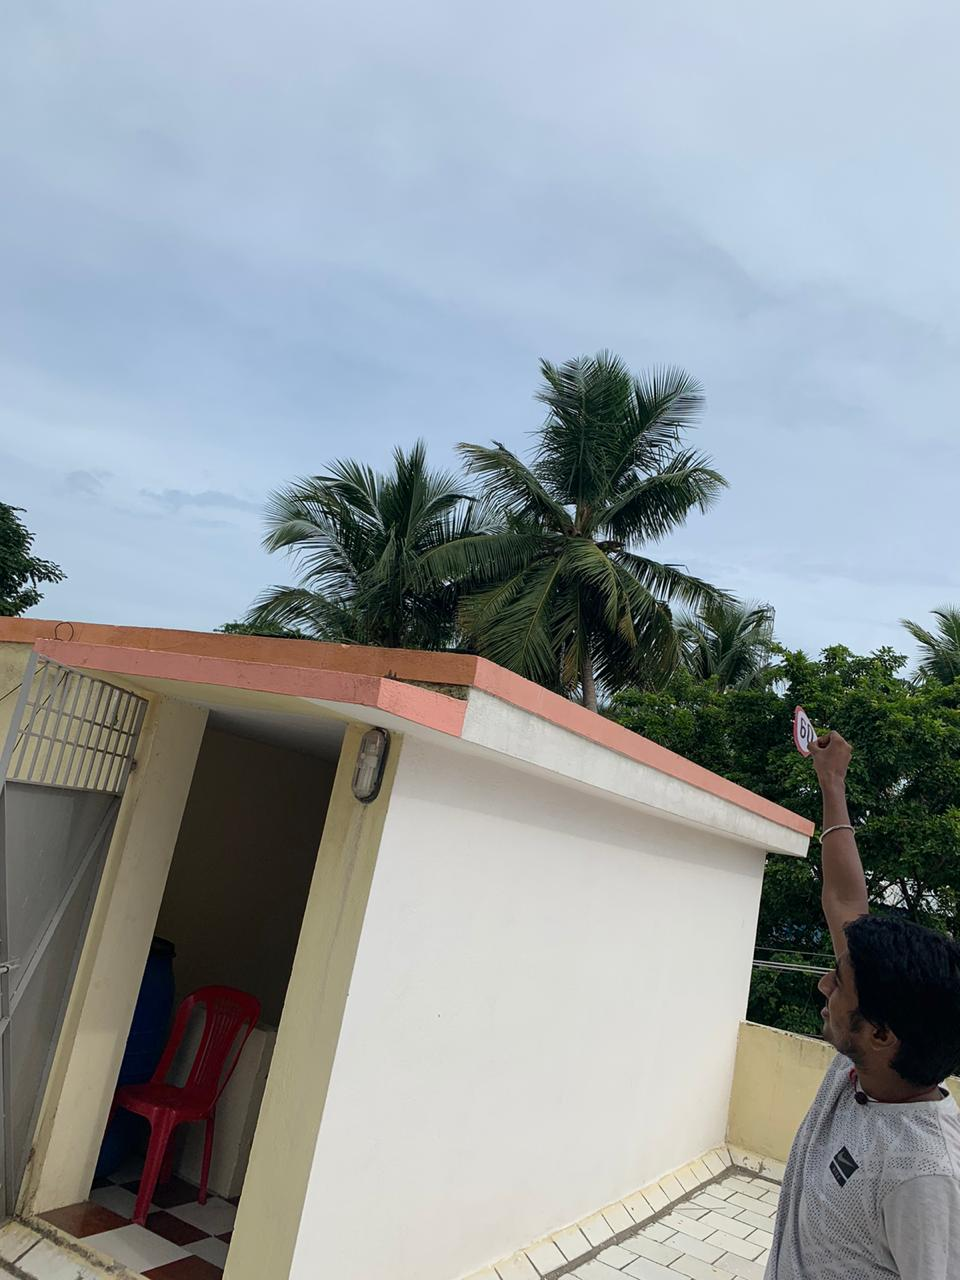SPEED LIMIT (60 KM/H): (788, 692, 844, 769)
